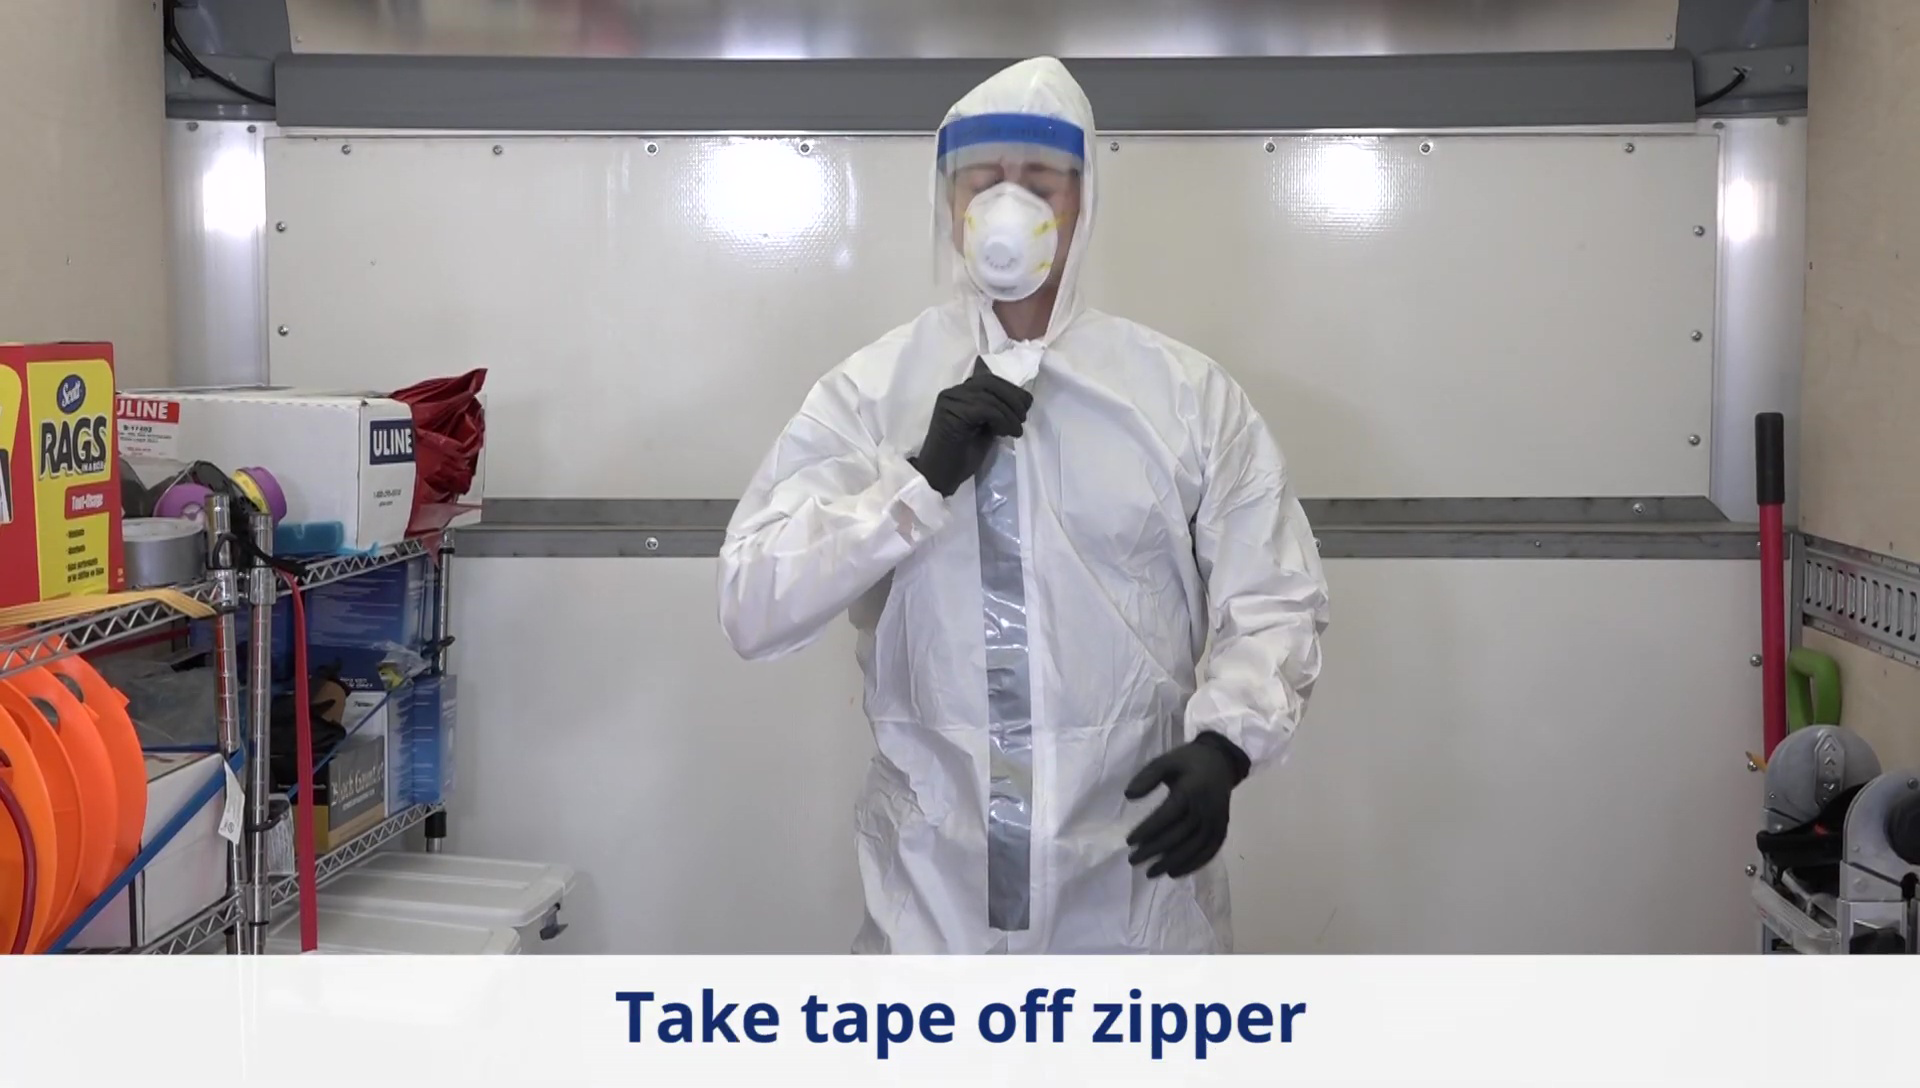Coverall: (716, 57, 1333, 954)
Face_Shield: (926, 117, 1103, 323)
Gloves: (1123, 732, 1250, 883), (916, 374, 1034, 499)
with_mask: (952, 165, 1066, 304)
